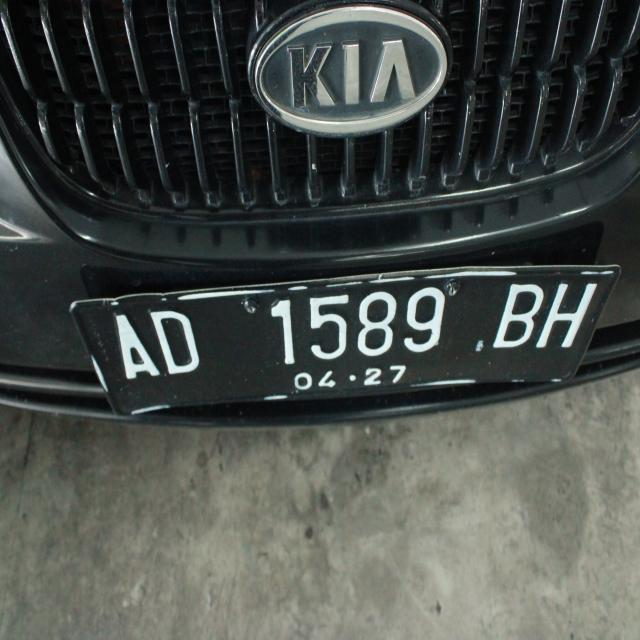1: (257, 292, 307, 381)
5: (298, 286, 352, 368)
8: (353, 286, 396, 366)
9: (400, 281, 447, 363)
A: (100, 301, 163, 402)
B: (486, 264, 546, 362)
D: (140, 296, 210, 386)
H: (532, 259, 598, 377)
